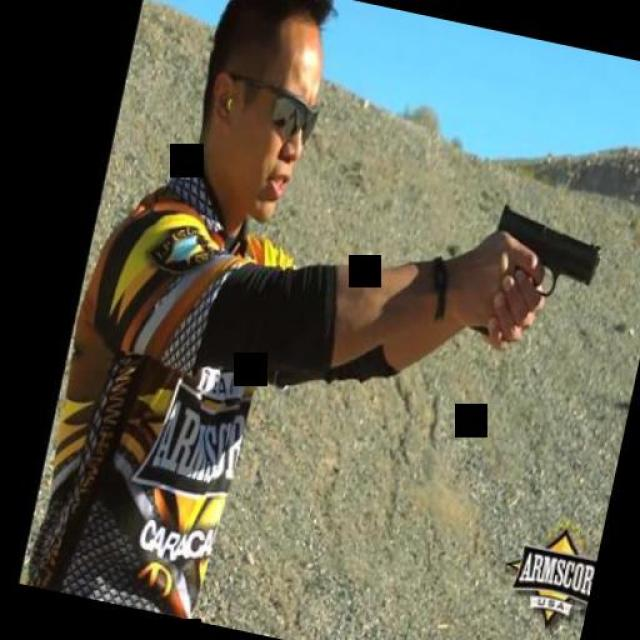gun: (466, 200, 609, 364)
